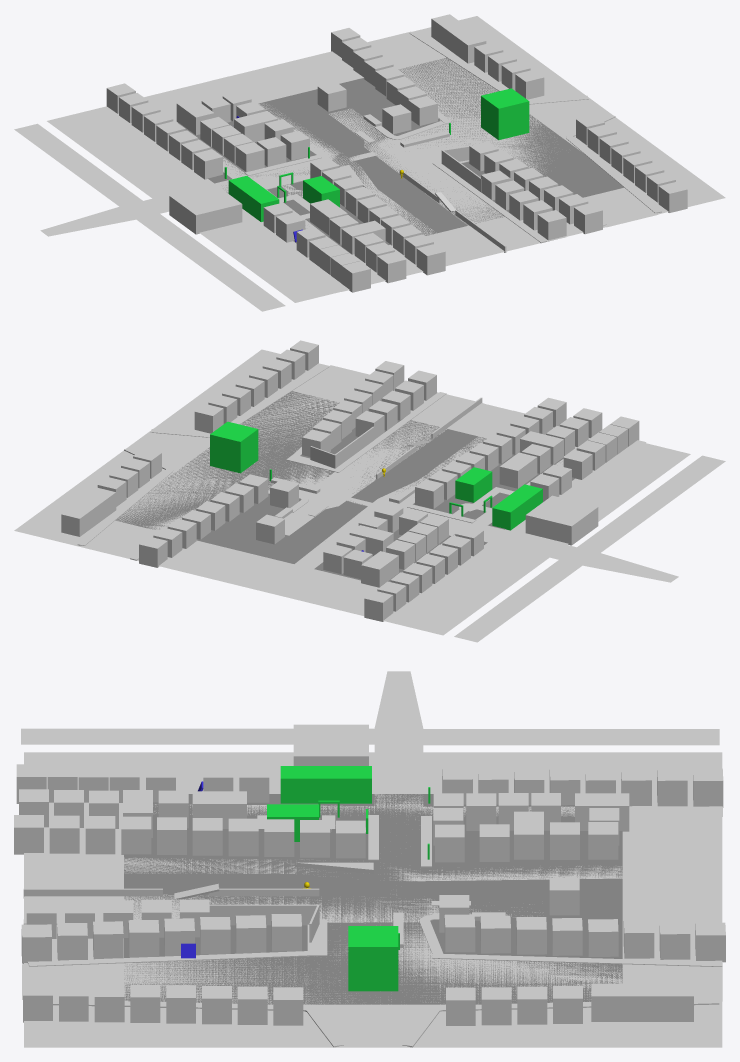
File: Level Tugu.fbx
3 views of the same model, one above another, from view 1: azimuth 30°, elevation 25°; view 2: azimuth 150°, elevation 25°; view 3: azimuth 270°, elevation 25° (orthographic). The views are drawn at different scales.
Visible parts, largest first — view 1: Denah Jalan, Ground Outer, Ground, Bangunan.016, Bangunan.014, Bangunan.001, Bangunan.003, Bangunan.004, Bangunan, Bangunan.015, Bangunan.002, Cube.001 (+20 smaller); view 2: Denah Jalan, Ground Outer, Ground, Bangunan.016, Bangunan.003, Bangunan.001, Bangunan.014, Bangunan.004, Bangunan.015, Bangunan, Cube.001, Bangunan.007 (+20 smaller); view 3: Ground, Denah Jalan, Ground Outer, Bangunan.016, Bangunan.003, Bangunan.001, Bangunan.004, Bangunan.014, Bangunan.002, Bangunan.018, Bangunan, Bangunan.020 (+25 smaller).
Boxes of the visible parts, box(x1,y1,x2,y2) form: Denah Jalan: box(14, 31, 657, 311); Ground Outer: box(47, 16, 725, 302); Ground: box(178, 57, 623, 254); Bangunan.016: box(310, 158, 445, 275); Bangunan.014: box(106, 83, 222, 179); Bangunan.001: box(576, 115, 687, 212); Bangunan.003: box(331, 28, 437, 125); Bangunan.004: box(469, 141, 602, 234); Bangunan: box(481, 170, 566, 241); Bangunan.015: box(169, 184, 242, 234); Bangunan.002: box(474, 42, 544, 99); Cube.001: box(481, 88, 529, 140); Denah Jalan: box(80, 365, 725, 642); Ground Outer: box(14, 349, 690, 635); Ground: box(115, 391, 575, 581); Bangunan.016: box(415, 397, 566, 509); Bangunan.003: box(139, 474, 268, 567); Bangunan.001: box(194, 340, 318, 433); Bangunan.014: box(364, 526, 483, 621); Bangunan.004: box(302, 361, 404, 456); Bangunan.015: box(525, 495, 598, 545); Bangunan: box(355, 370, 436, 439); Cube.001: box(210, 421, 258, 473); Bangunan.007: box(386, 514, 448, 569); Ground: box(124, 794, 622, 1004); Denah Jalan: box(21, 671, 722, 1046); Ground Outer: box(24, 752, 722, 1047); Bangunan.016: box(14, 815, 365, 858); Bangunan.003: box(444, 914, 725, 962); Bangunan.001: box(23, 983, 303, 1025); Bangunan.004: box(21, 914, 301, 964); Bangunan.014: box(442, 767, 723, 807); Bangunan.002: box(446, 986, 582, 1025); Bangunan.018: box(591, 983, 693, 1021); Bangunan: box(26, 899, 209, 938); Bangunan.020: box(16, 764, 139, 803).
Bounding box in the file's own units: 8911 × 514 × 7137.
